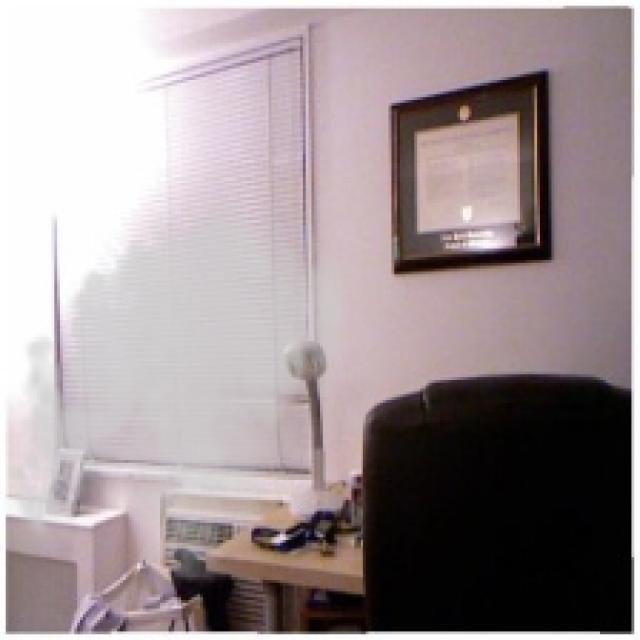Smoke: (0, 183, 355, 584)
